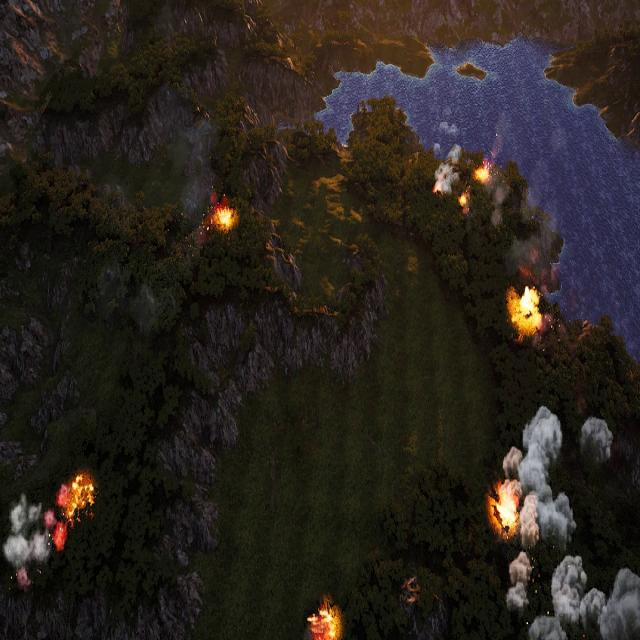fire: (64, 474, 96, 523), (510, 286, 543, 332), (494, 484, 519, 532), (308, 605, 341, 640), (47, 503, 68, 549), (215, 206, 233, 228), (476, 164, 491, 183), (459, 194, 468, 210), (432, 182, 439, 195)
smoke: (502, 402, 638, 635), (1, 496, 54, 598), (174, 121, 221, 221), (433, 142, 464, 195), (490, 183, 506, 228)
